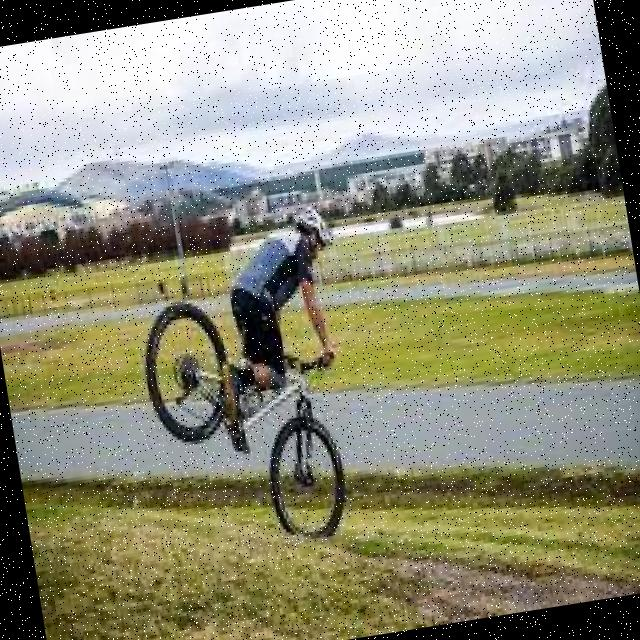Wheeling: (119, 198, 376, 562)
